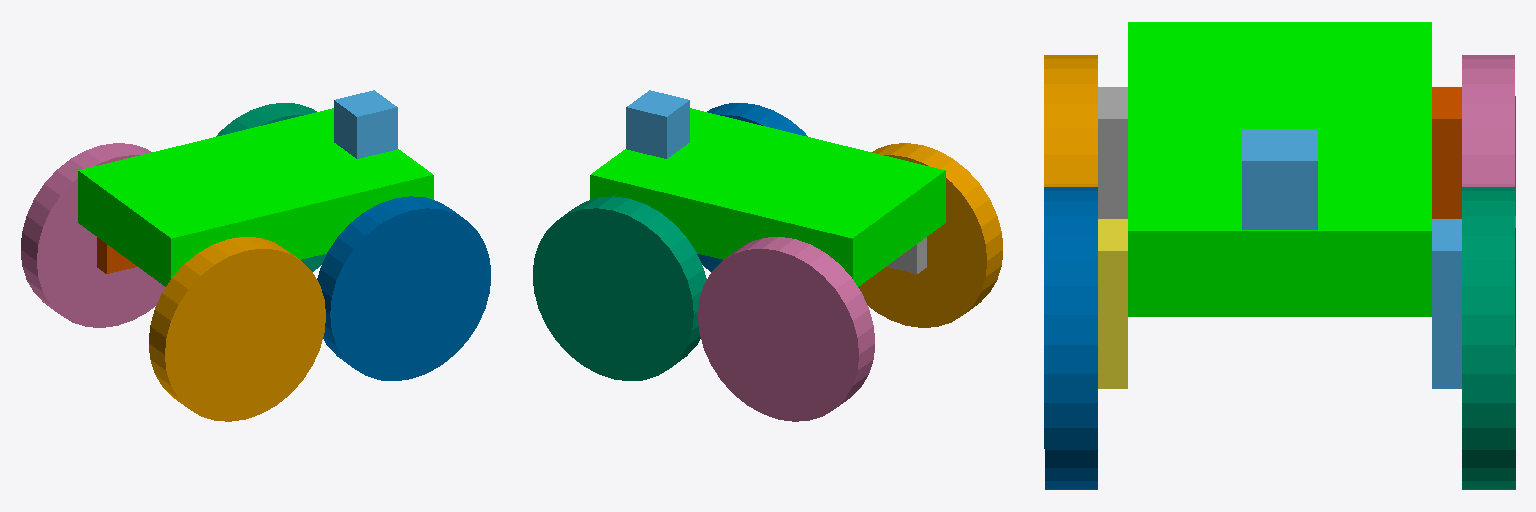
The robot description file, URDF, robot "avular_origin_v12":
<?xml version='1.0'?>

<robot name="avular_origin_v12">

    <material name="green">
        <color rgba="0 1 0 1"/>
    </material>

    <!-- Main Body -->
    <link name='main_body_v12'>
        <inertial>
            <mass value="21.0"/>
            <inertia ixx="0.4" ixy="0.0" ixz="0.0" iyy="0.77" iyz="0.0" izz="1.01"/>
        </inertial>
        <collision name='main_body_v12_collision'>
            <origin xyz="0 0 0.3175" rpy="0 0 0.0"/>
            <geometry>
                <box size=".65 .4 .125"/>
            </geometry>
        </collision>
        <visual name='main_body_v12_visual'>
            <origin xyz="0 0 0.3175" rpy="0 0 0.0"/>
            <geometry>
                <box size=".65 .4 .125"/>
            </geometry>
            <material name="green"/>
        </visual>
    </link>


    <!-- Main Body to Left Front Passive Arm -->
    <joint type="revolute" name="left_front_passive_arm_joint_v12">
        <origin xyz="0.205 0.2 0.3175" rpy="0 0 0"/>
        <parent link="main_body_v12"/>
        <child link="left_front_passive_arm_v12"/>
        <axis xyz="0 1 0"/>
        <dynamics damping="5.0" stiffness="150.0"/>
        <limit effort="100000.0" velocity="10" lower="-0.7854" upper="0.0"/>
    </joint>


    <!-- Left Front Passive Arm -->
    <link name="left_front_passive_arm_v12">
        <inertial>
            <mass value="1.0"/>
            <inertia ixx="0.001" ixy="0.0" ixz="0.0" iyy="0.001" iyz="0.0" izz="0.001"/>
        </inertial>
        <collision name="left_front_passive_arm_v12_collision">
            <origin xyz="0.0 0.02 -0.1" rpy="0 0 0"/>
            <geometry>
                <box size="0.1 0.04 0.2"/>
            </geometry>
        </collision>
        <visual name="left_front_passive_arm_v12_visual">
            <origin xyz="0.0 0.02 -0.1" rpy="0 0 0"/>
            <geometry>
                <box size="0.1 0.04 0.2"/>
            </geometry>
        </visual>
    </link>


    <!-- Left Front Passive Arm to Left Front Wheel -->
    <joint type="continuous" name="left_front_wheel_joint_v12">
        <origin xyz="0 0.04 -0.15" rpy="-1.5707 0 0"/>
        <parent link="left_front_passive_arm_v12"/>
        <child link="left_front_wheel_v12"/>
        <axis xyz="0 1 0"/>
        <dynamics damping="0.1" stiffness="0.5"/>
        <limit effort="100000.0" velocity="10"/>
    </joint>


    <link name="left_front_wheel_v12">
        <inertial>
            <mass value="1"/>
            <inertia ixx="0.01" ixy="0.0" ixz="0.0" iyy="0.01" iyz="0.0" izz="0.01"/>
        </inertial>
        <collision name="left_front_wheel_v12_collision">
            <origin xyz="0.0 0.0 0.035" rpy="0 0 0"/>
            <geometry>
                <cylinder length=".07" radius=".2"/>
            </geometry>
        </collision>
        <visual name="left_front_wheel_v12_visual">
            <origin xyz="0.0 0.0 0.035" rpy="0.0 0.0 0.0"/>
            <geometry>
                <cylinder length=".07" radius=".2"/>
            </geometry>
        </visual>
    </link>



    <!-- Main Body to Right Front Passive Arm -->
    <joint type="revolute" name="right_front_passive_arm_joint_v12">
        <origin xyz="0.205 -0.2 0.3175" rpy="0 0 0"/>
        <parent link="main_body_v12"/>
        <child link="right_front_passive_arm_v12"/>
        <axis xyz="0 -1 0"/>
        <dynamics damping="5.0" stiffness="150.0"/>
        <limit effort="100000.0" velocity="10" lower="-0.7854" upper="0.0"/>
    </joint>


    <!-- Right Front Passive Arm -->
    <link name="right_front_passive_arm_v12">
        <inertial>
            <mass value="1.0"/>
            <inertia ixx="0.001" ixy="0.0" ixz="0.0" iyy="0.001" iyz="0.0" izz="0.001"/>
        </inertial>
        <collision name="right_front_passive_arm_v12_collision">
            <origin xyz="0.0 -0.02 -0.1" rpy="0 0 0"/>
            <geometry>
                <box size="0.1 0.04 0.2"/>
            </geometry>
        </collision>
        <visual name="right_front_passive_v12_arm_visual">
            <origin xyz="0.0 -0.02 -0.1" rpy="0 0 0"/>
            <geometry>
                <box size="0.1 0.04 0.2"/>
            </geometry>
        </visual>
    </link>


    <!-- Right Front Passive Arm to Right Front Wheel -->
    <joint type="continuous" name="right_front_wheel_joint_v12">
        <origin xyz="0 -0.04 -0.15" rpy="-1.5707 0 0"/>
        <parent link="right_front_passive_arm_v12"/>
        <child link="right_front_wheel_v12"/>
        <axis xyz="0 1 0"/>
        <dynamics damping="0.1" stiffness="0.5"/>
        <limit effort="100000.0" velocity="10"/>
    </joint>


    <link name="right_front_wheel_v12">
        <inertial>
            <mass value="1"/>
            <inertia ixx="0.01" ixy="0.0" ixz="0.0" iyy="0.01" iyz="0.0" izz="0.01"/>
        </inertial>
        <collision name="right_front_wheel_v12_collision">
            <origin xyz="0.0 0.0 -0.035" rpy="0 0 0"/>
            <geometry>
                <cylinder length=".07" radius=".2"/>
            </geometry>
        </collision>
        <visual name="right_front_wheel_v12_visual">
            <origin xyz="0.0 0.0 -0.035" rpy="0 0 0"/>
            <geometry>
                <cylinder length=".07" radius=".2"/>
            </geometry>
        </visual>
    </link>


    <!-- Main Body to Left Rear Passive Arm -->
    <joint type="revolute" name="rear_passive_arm_joint_v12">
        <origin xyz="-0.205 0.2 0.3175" rpy="0 0 0"/>
        <parent link="main_body_v12"/>
        <child link="left_rear_passive_arm_v12"/>
        <axis xyz="0 1 0"/>
        <dynamics damping="5.0" stiffness="150.0"/>
        <limit effort="100000.0" velocity="10" lower="0.0" upper="0.7854"/>
    </joint>


    <!-- Left Rear Passive Arm -->
    <link name="left_rear_passive_arm_v12">
        <inertial>
            <mass value="1.0"/>
            <inertia ixx="0.001" ixy="0.0" ixz="0.0" iyy="0.001" iyz="0.0" izz="0.001"/>
        </inertial>
        <collision name="left_rear_passive_arm_v12_collision">
            <origin xyz="0.0 0.02 -0.1" rpy="0 0 0"/>
            <geometry>
                <box size="0.1 0.04 0.2"/>
            </geometry>
        </collision>
        <visual name="left_rear_passive_arm_v12_visual">
            <origin xyz="0.0 0.02 -0.1" rpy="0 0 0"/>
            <geometry>
                <box size="0.1 0.04 0.2"/>
            </geometry>
        </visual>
    </link>


    <!-- Left Rear Passive Arm to Left Rear Wheel -->
    <joint type="continuous" name="left_rear_wheel_joint_v12">
        <origin xyz="0 0.04 -0.15" rpy="-1.5707 0 0"/>
        <parent link="left_rear_passive_arm_v12"/>
        <child link="left_rear_wheel_v12"/>
        <axis xyz="0 1 0"/>
        <dynamics damping="0.1" stiffness="0.5"/>
        <limit effort="100000.0" velocity="10"/>
    </joint>


    <link name="left_rear_wheel_v12">
        <inertial>
            <mass value="1"/>
            <inertia ixx="0.01" ixy="0.0" ixz="0.0" iyy="0.01" iyz="0.0" izz="0.01"/>
        </inertial>
            <collision name="left_rear_wheel_v12_collision">
            <origin xyz="0.0 0.0 0.035" rpy="0 0 0"/>
            <geometry>
                <cylinder length=".07" radius=".2"/>
            </geometry>
        </collision>
        <visual name="left_rear_wheel_v12_visual">
            <origin xyz="0.0 0.0 0.035" rpy="0 0 0"/>
            <geometry>
                <cylinder length=".07" radius=".2"/>
            </geometry>
        </visual>
    </link>


    <!-- Main Body to Right Rear Passive Arm -->
    <joint type="revolute" name="right_rear_passive_arm_joint_v12">
        <origin xyz="-0.205 -0.2 0.3175" rpy="0 0 0"/>
        <parent link="main_body_v12"/>
        <child link="right_rear_passive_arm_v12"/>
        <axis xyz="0 -1 0"/>
        <dynamics damping="5.0" stiffness="150.0"/>
        <limit effort="100000.0" velocity="10" lower="0.0" upper="0.7854"/>
    </joint>

    <!-- Right Rear Passive Arm -->
    <link name="right_rear_passive_arm_v12">
        <inertial>
            <mass value="1.0"/>
            <inertia ixx="0.001" ixy="0.0" ixz="0.0" iyy="0.001" iyz="0.0" izz="0.001"/>
        </inertial>
        <collision name="right_rear_passive_arm_v12_collision">
            <origin xyz="0.0 -0.02 -0.1" rpy="0 0 0"/>
            <geometry>
                <box size="0.1 0.04 0.2"/>
            </geometry>
        </collision>
        <visual name="right_rear_passive_arm_v12_visual">
            <origin xyz="0.0 -0.02 -0.1" rpy="0 0 0"/>
            <geometry>
                <box size="0.1 0.04 0.2"/>
            </geometry>
        </visual>
    </link>


    <!-- Right Rear Passive Arm to Right Rear Wheel -->
    <joint type="continuous" name="right_rear_wheel_joint_v12">
        <origin xyz="0 -0.04 -0.15" rpy="-1.5707 0 0"/>
        <parent link="right_rear_passive_arm_v12"/>
        <child link="right_rear_wheel_v12"/>
        <axis xyz="0 1 0"/>
        <dynamics damping="0.1" stiffness="0.5"/>
        <limit effort="100000.0" velocity="10"/>
    </joint>


    <link name="right_rear_wheel_v12">
        <inertial>
            <mass value="1"/>
            <inertia ixx="0.01" ixy="0.0" ixz="0.0" iyy="0.01" iyz="0.0" izz="0.01"/>
        </inertial>
        <collision name="right_rear_wheel_v12_collision">
            <origin xyz="0.0 0.0 -0.035" rpy="0 0 0"/>
            <geometry>
                <cylinder length=".07" radius=".2"/>
            </geometry>
        </collision>
        <visual name="right_rear_wheel_v12_visual">
            <origin xyz="0.0 0.0 -0.035" rpy="0 0 0"/>
            <geometry>
                <cylinder length=".07" radius=".2"/>
            </geometry>
        </visual>
    </link>



    <joint type="fixed" name="ouster_platform_joint_v12">
        <origin xyz="0.272 0 0.38" rpy="0 0 0"/>
        <child link="ouster_base_v12" />
        <parent link="main_body_v12"/>
    </joint>


    <link name="ouster_base_v12">
        <inertial>
            <mass value="1"/>
            <inertia ixx="0.001" ixy="0.0" ixz="0.0" iyy="0.001" iyz="0.0" izz="0.001"/>
        </inertial>
        <visual name="ouster_base_v12_visual">
            <origin xyz="0.0 0.0 0.05" rpy="0.0 0.0 0.0"/>
            <geometry>
                <box size="0.1 0.1 0.1"/>
            </geometry>
        </visual>
        <collision name="ouster_base_v12_collision">
            <origin xyz="0.0 0.0 0.05" rpy="0.0 0.0 0.0"/>
            <geometry>
                <box size="0.1 0.1 0.1"/>
            </geometry>
        </collision>
    </link>


    <joint type="fixed" name="lidar_joint_gazebo_v12">
        <origin xyz="0 0 0.035" rpy="0 0 0"/>
        <child link="lidar_link_gazebo_v12" />
        <parent link="ouster_base_v12"/>
    </joint>


    <link name="lidar_link_gazebo_v12">
        <inertial>
            <mass value="0.1"/>
            <inertia ixx="0.001" ixy="0.0" ixz="0.0" iyy="0.001" iyz="0.0" izz="0.001"/>
        </inertial>
        <collision name="lidar_link_gazebo_v12_collision">
            <origin xyz="0 0 0.0" rpy="0 0 0"/>
            <geometry>
                <cylinder length="0.07" radius="0.04"/>
            </geometry>
        </collision>
    </link>

    <joint type="fixed" name="realsense_joint_v12">
        <origin xyz="0.32 0.03 0.3175" rpy="0 0 0"/>
        <child link="camera_link_v12"/>
        <parent link="main_body_v12"/>
    </joint>


    <link name="camera_link_v12">
        <inertial>
            <mass value="0.035"/>
            <inertia ixx="0.001" ixy="0" ixz="0.0" iyy="0.001" iyz="0.0" izz="0.001"/>
        </inertial>
        <collision name="camera_link_v12_collision">
            <origin xyz="0 0.047 0" rpy="0 0 0"/>
            <geometry>
                <box size="0.008 0.13 0.022"/>
            </geometry>
        </collision>
    </link>
 
</robot>

--- What the picture shows (computed from the rendered views, not written in the file) ---
Views: 3 orthographic renders of the robot side by side, from view 1: azimuth 30°, elevation 25°; view 2: azimuth 150°, elevation 25°; view 3: azimuth 270°, elevation 25°.
Model avular_origin_v12 with 12 links and 11 joints (4 revolute, 4 continuous, 3 fixed), rooted at main_body_v12, posed every joint at zero.
Visible links, largest first — view 1: main_body_v12, right_rear_wheel_v12, right_front_wheel_v12, left_rear_wheel_v12, ouster_base_v12, left_front_wheel_v12, left_rear_passive_arm_v12; view 2: main_body_v12, left_rear_wheel_v12, left_front_wheel_v12, right_rear_wheel_v12, ouster_base_v12, right_front_wheel_v12, right_rear_passive_arm_v12; view 3: main_body_v12, left_front_wheel_v12, right_front_wheel_v12, ouster_base_v12, left_rear_wheel_v12, right_rear_wheel_v12, left_front_passive_arm_v12, right_front_passive_arm_v12, left_rear_passive_arm_v12, right_rear_passive_arm_v12.
Boxes of the visible links, x1,y1,x2,y2 form: main_body_v12: (78,108,433,286); right_rear_wheel_v12: (149,237,325,421); right_front_wheel_v12: (317,196,490,380); left_rear_wheel_v12: (21,143,165,327); ouster_base_v12: (334,90,397,158); left_front_wheel_v12: (216,103,326,271); left_rear_passive_arm_v12: (97,237,137,273); main_body_v12: (590,108,945,286); left_rear_wheel_v12: (698,237,874,421); left_front_wheel_v12: (533,196,706,380); right_rear_wheel_v12: (858,143,1002,327); ouster_base_v12: (626,90,689,158); right_front_wheel_v12: (697,103,807,271); right_rear_passive_arm_v12: (886,237,926,273); main_body_v12: (1128,22,1431,316); left_front_wheel_v12: (1462,187,1515,489); right_front_wheel_v12: (1044,187,1097,489); ouster_base_v12: (1242,129,1317,229); left_rear_wheel_v12: (1462,55,1515,227); right_rear_wheel_v12: (1044,55,1097,186); left_front_passive_arm_v12: (1432,219,1461,388); right_front_passive_arm_v12: (1098,219,1127,388); left_rear_passive_arm_v12: (1432,87,1461,218); right_rear_passive_arm_v12: (1098,87,1127,218).
Size in the robot's own frame: 0.81 by 0.62 by 0.5125 metres.
Geometry: primitives only (box / cylinder / sphere), no mesh files.